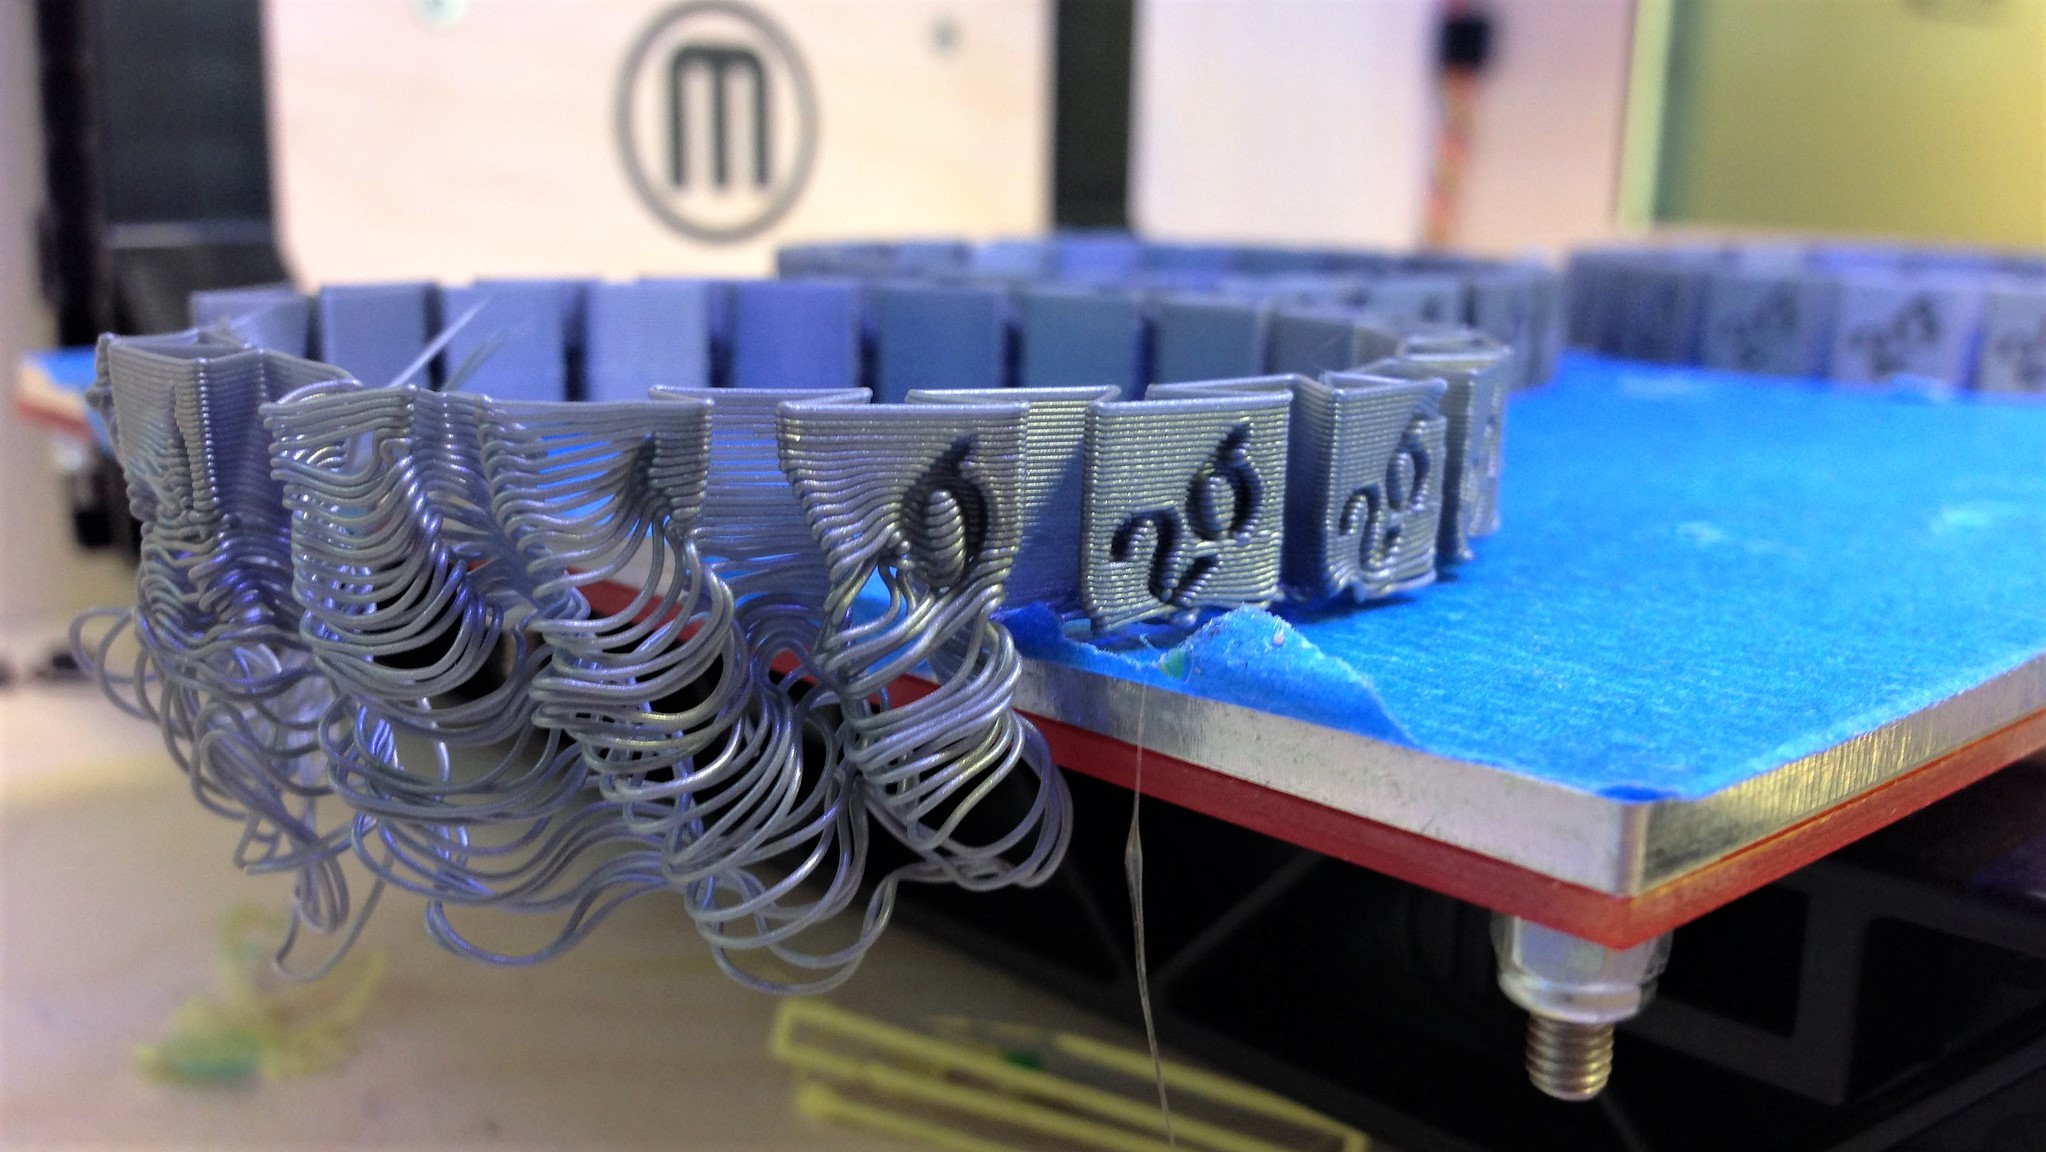fail: (89, 320, 1095, 1009)
